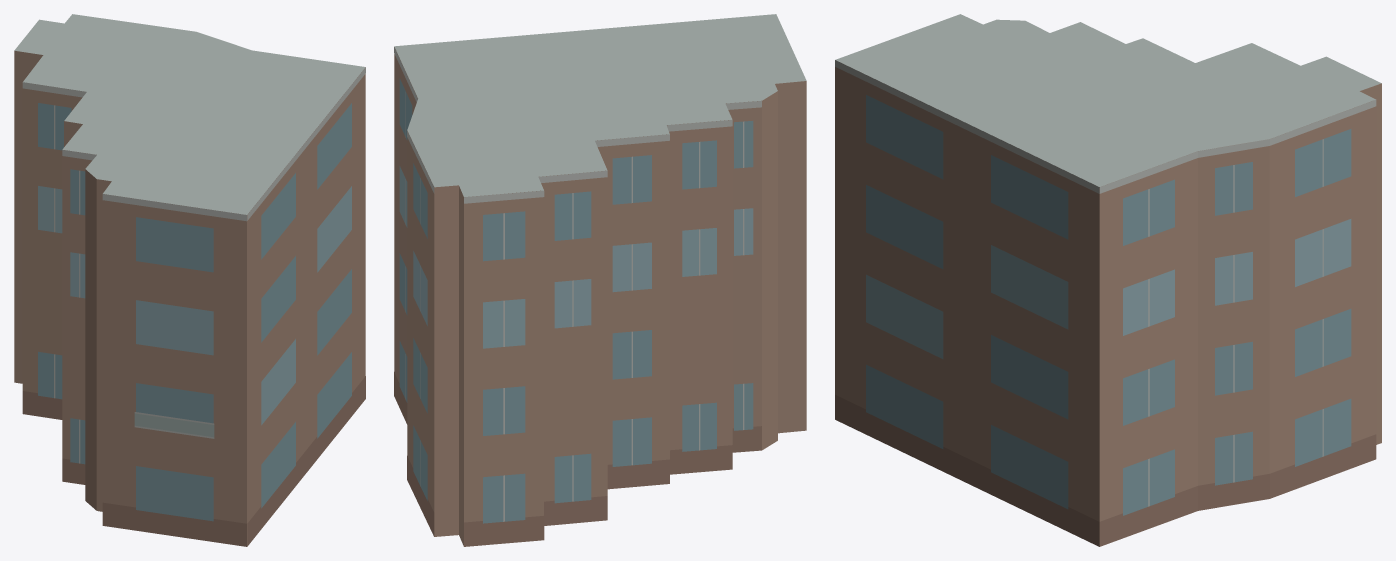
The model's file is survey-upis-32831301.glb.
3 views of the same model, side by side, from view 1: azimuth 30°, elevation 25°; view 2: azimuth 150°, elevation 25°; view 3: azimuth 270°, elevation 25° (orthographic). The views are drawn at different scales.
Visible parts, largest first — view 1: survey-upis-32831301.tmp; view 2: survey-upis-32831301.tmp; view 3: survey-upis-32831301.tmp.
Boxes of the visible parts, bbox=[...] form: survey-upis-32831301.tmp: bbox=[14, 14, 365, 546]; survey-upis-32831301.tmp: bbox=[394, 14, 806, 546]; survey-upis-32831301.tmp: bbox=[835, 14, 1381, 546].
Bounding box in the file's own units: 13.27 × 12.85 × 17.71.
